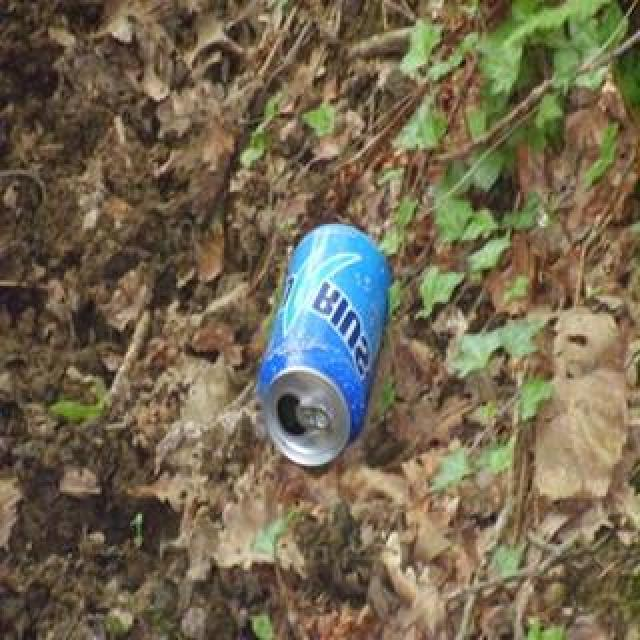Can: (247, 212, 395, 468)
